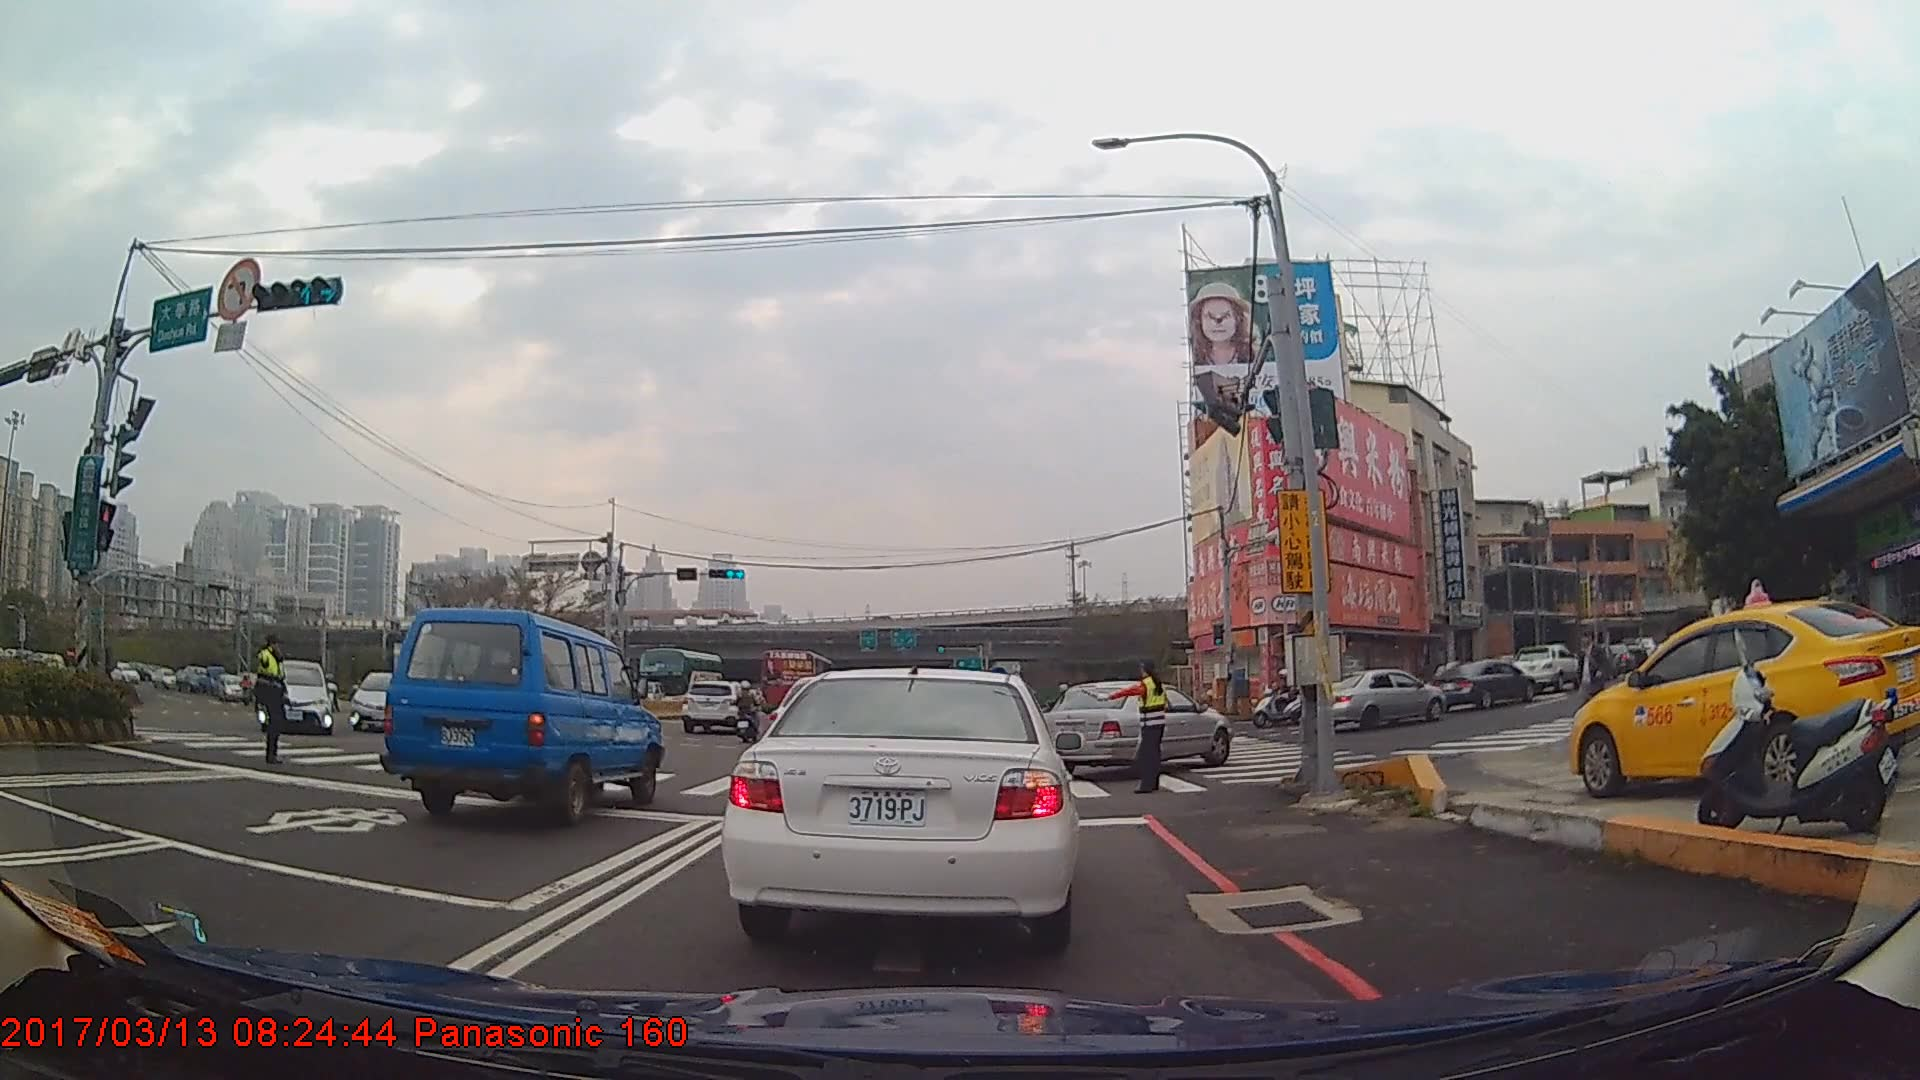pedestrian: (1086, 659, 1169, 792), (248, 634, 293, 765), (1573, 628, 1614, 734)
rider: (1253, 667, 1305, 726), (733, 680, 761, 743), (1044, 685, 1077, 736)
vehicle: (723, 659, 1079, 946), (1571, 597, 1920, 800), (380, 603, 662, 824), (1036, 676, 1229, 782), (1307, 668, 1445, 732), (759, 647, 838, 723), (259, 659, 331, 735), (1437, 658, 1537, 711), (637, 647, 723, 705), (678, 679, 756, 735), (348, 673, 417, 734), (1511, 642, 1579, 691)
